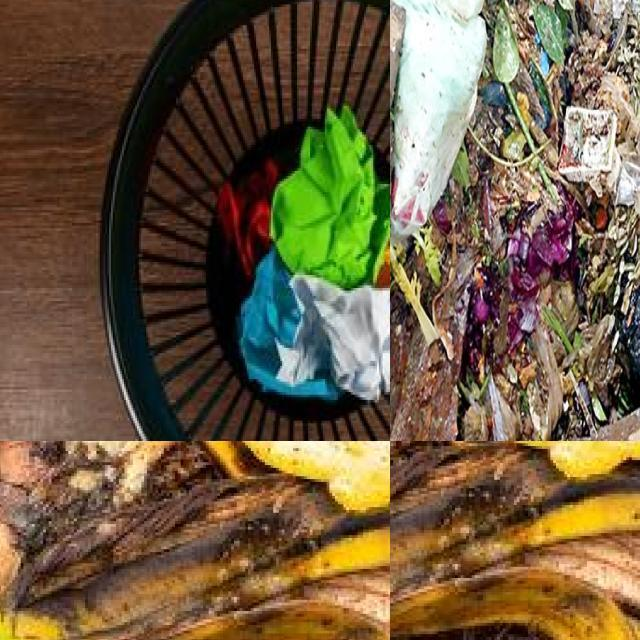Disposable: (558, 109, 617, 182)
Garbage: (390, 0, 640, 441), (0, 441, 390, 640), (390, 441, 640, 640)
Paper: (217, 107, 390, 400)
Plastic_Bag: (391, 0, 486, 237)
top_view_waste: (210, 109, 390, 423)
